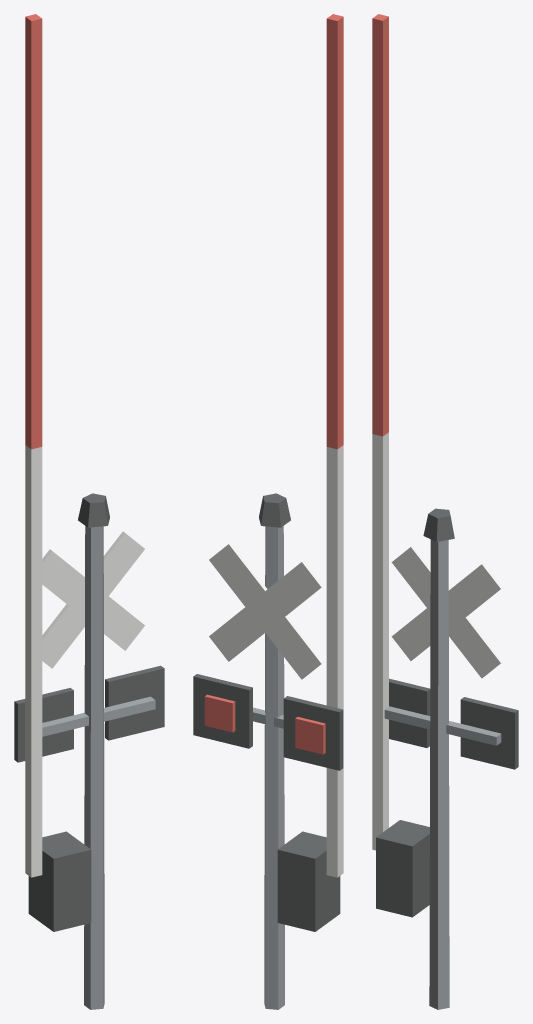
Rendered from crossing-gate-2-far.glb.
3 views of the same model, side by side, from view 1: azimuth 30°, elevation 25°; view 2: azimuth 150°, elevation 25°; view 3: azimuth 330°, elevation 25° (orthographic). The views are drawn at different scales.
Parts seen in each view (by area): view 1: crossing-gate-2-far; view 2: crossing-gate-2-far; view 3: crossing-gate-2-far.
Part boxes in pixels (x1,y1,x2,y2): crossing-gate-2-far: (14,14,164,1009); crossing-gate-2-far: (193,14,343,1009); crossing-gate-2-far: (372,14,518,1009).
Bounding box in the file's own units: 0.1528 × 1 × 0.0449.
